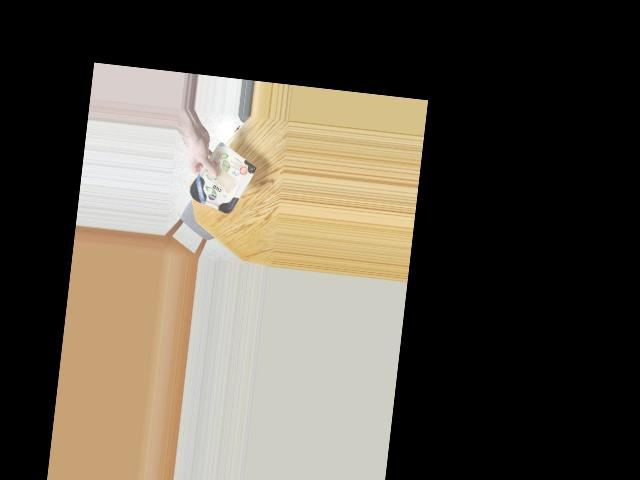cheese: (183, 145, 254, 216)
